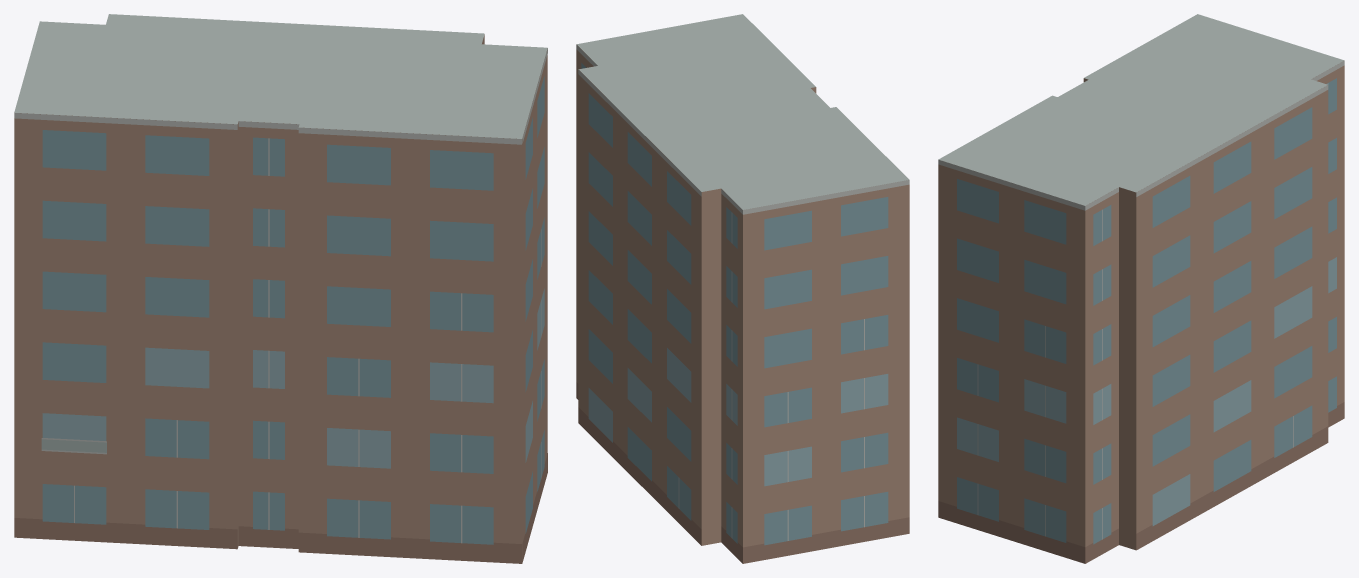
File: survey-upis-32669900.glb
3 views of the same model, side by side, from view 1: azimuth 30°, elevation 25°; view 2: azimuth 150°, elevation 25°; view 3: azimuth 270°, elevation 25° (orthographic). The views are drawn at different scales.
Visible parts, largest first — view 1: survey-upis-32669900.tmp; view 2: survey-upis-32669900.tmp; view 3: survey-upis-32669900.tmp.
Boxes of the visible parts, bbox=[...] form: survey-upis-32669900.tmp: bbox=[14, 14, 547, 563]; survey-upis-32669900.tmp: bbox=[576, 14, 909, 563]; survey-upis-32669900.tmp: bbox=[938, 14, 1344, 563].
Size of the model in its own units: 20.94 by 18.2 by 18.74.
